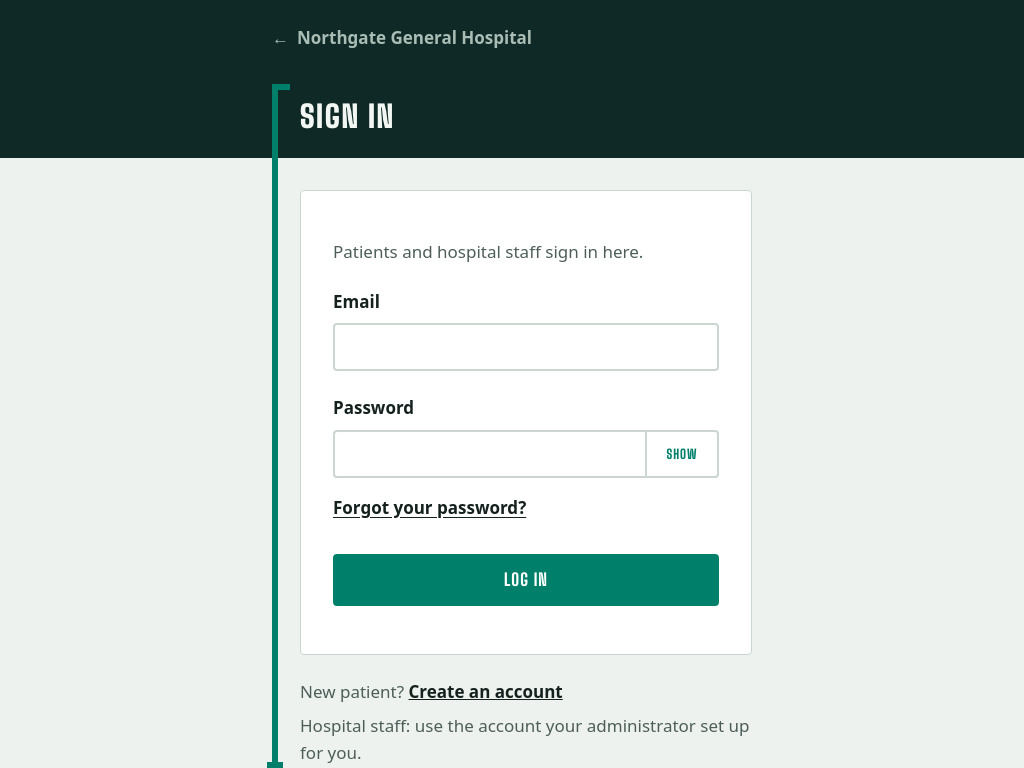
LoginPage › shows field errors and focuses the first invalid field
Click the button "Log in" at (526, 580), box [333, 554, 719, 606]
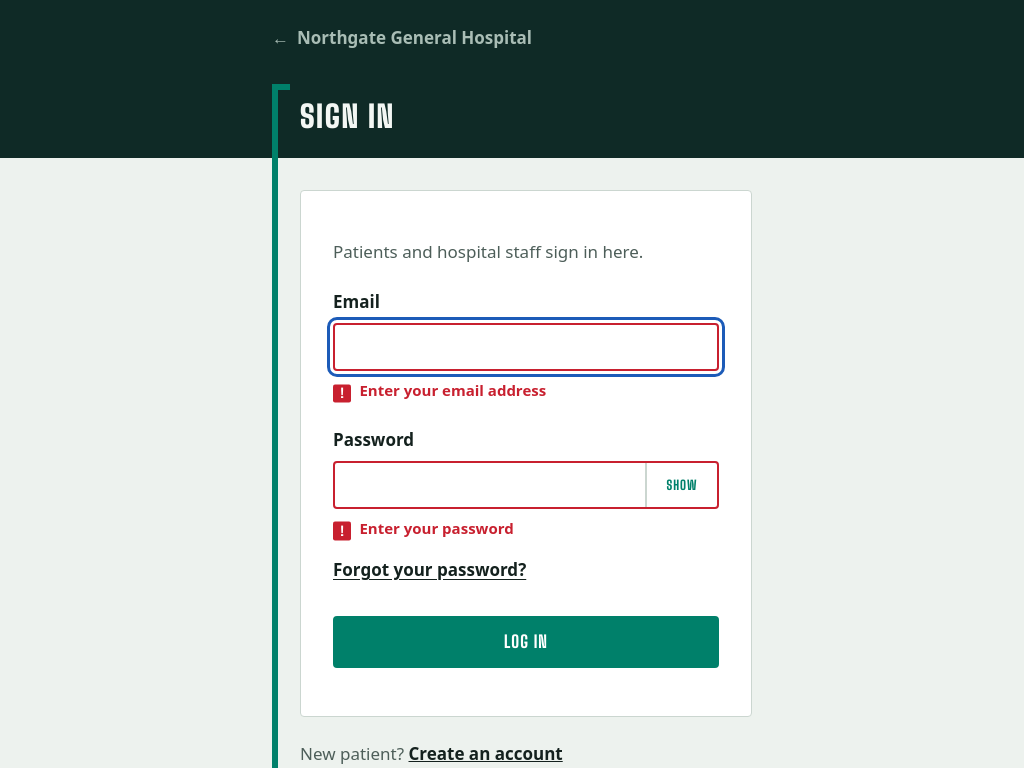
Expected: the text "Enter your email address" is shown, [359, 380, 546, 400]
Expected: the text "Enter your password" is shown, [359, 518, 514, 538]
